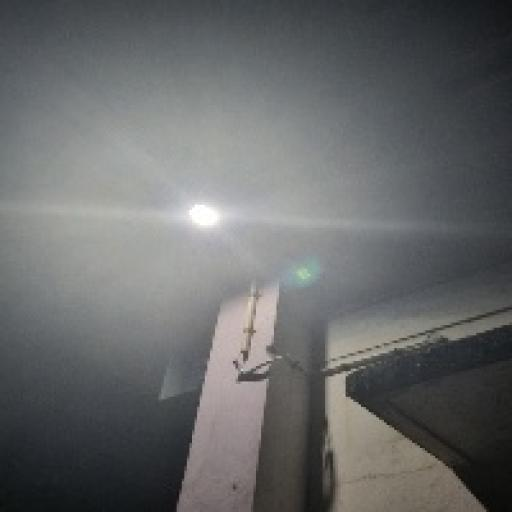Working: (178, 197, 225, 236)
